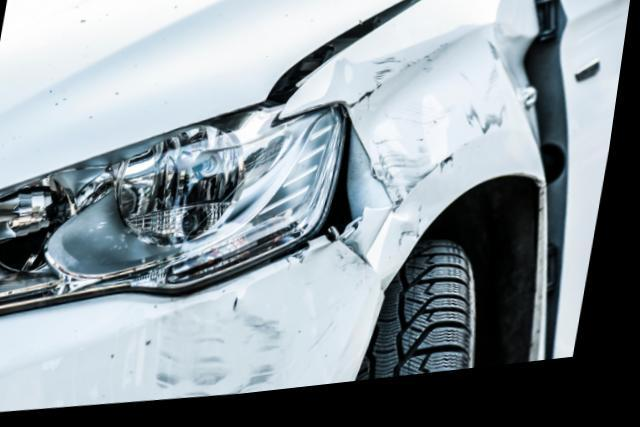dent: (355, 39, 525, 216), (155, 301, 284, 405)
lamp broken: (0, 112, 352, 319)
